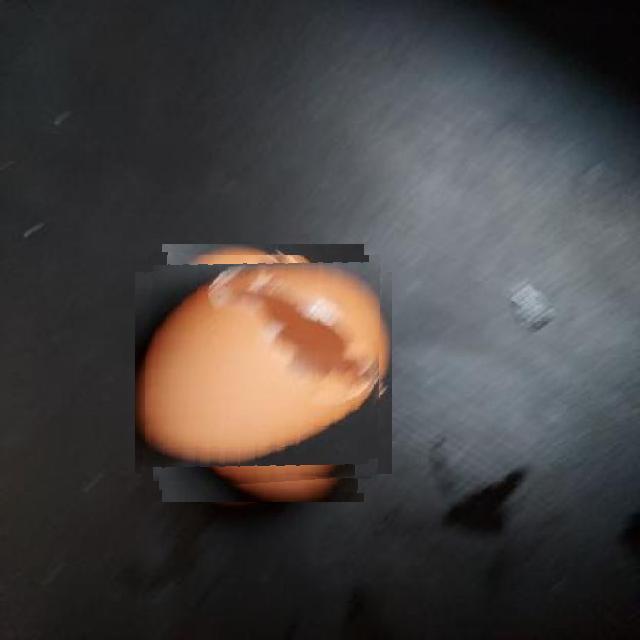biodegradable: (145, 255, 381, 491)
